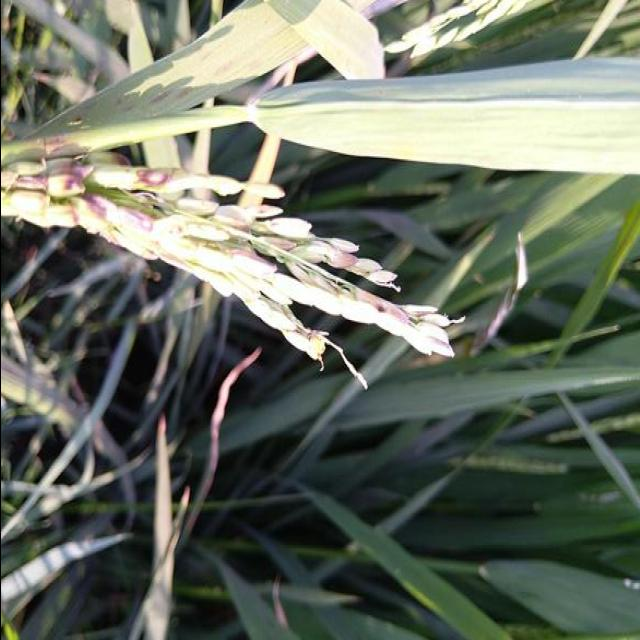Panicle Blight: (286, 254, 453, 357), (0, 153, 187, 226), (214, 244, 288, 281), (251, 232, 294, 250)
